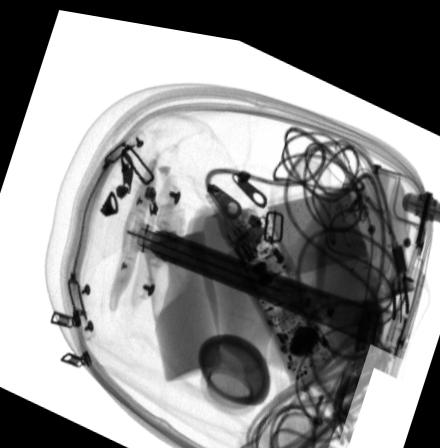Powerbank: (230, 168, 370, 282)
